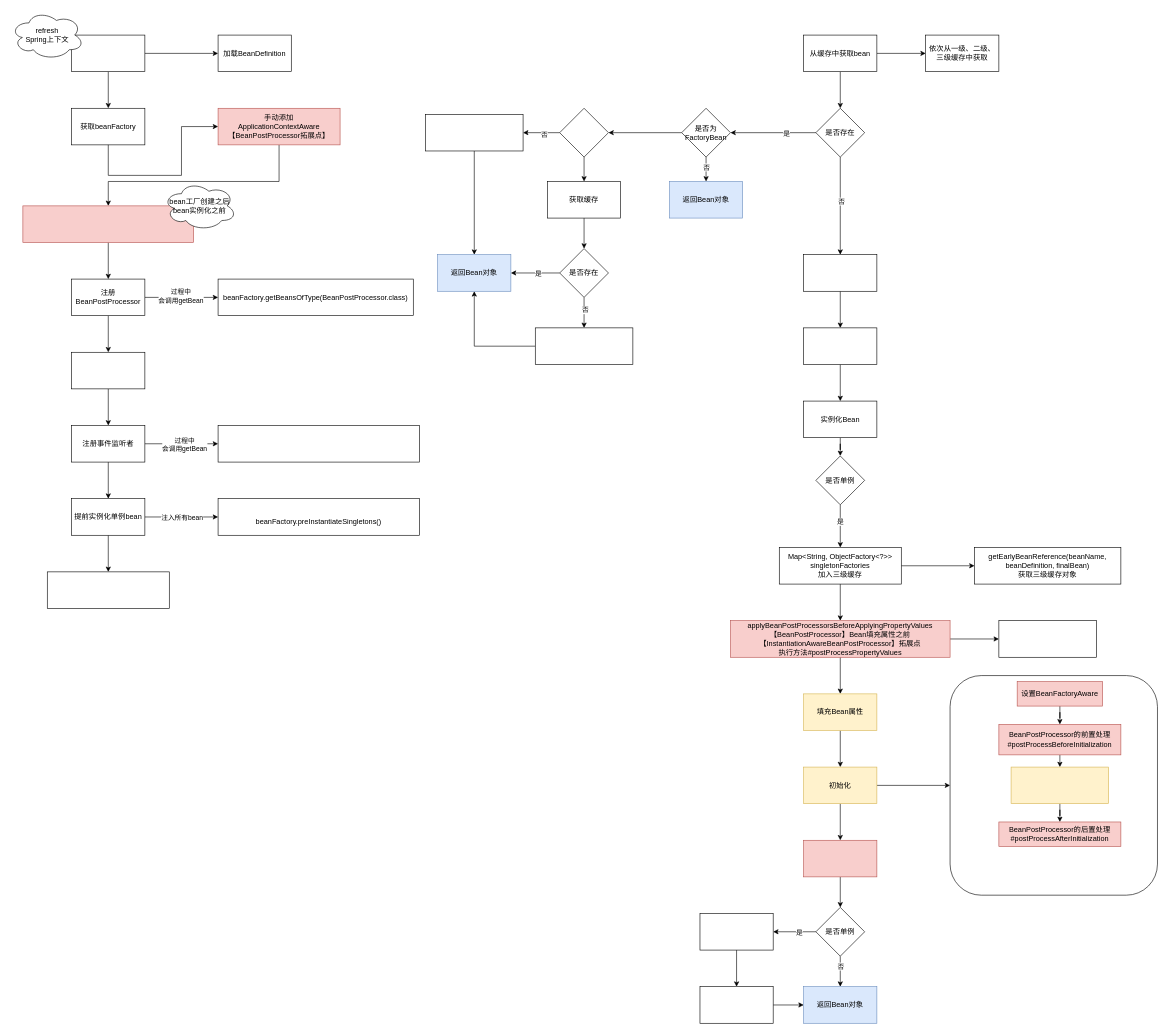
Image size: 1168x1034. Some labels were removed from this diagram. The shapes that lost their labels are listed below. From the top down, each one's box as (x1, y1, x2, y2) in pixels, then its label:
(71, 34, 145, 72): 创建BeanFactory
(425, 114, 523, 151): factoryBean.getObject() 使用自定义方法新建
(559, 108, 608, 157): 是否为 单例
(22, 205, 194, 242): 【 BeanFactoryPostProcessor 】 拓展点 执行方法：# postProcessBeanFactory
(803, 254, 877, 291): 基于beanName 获取Bean定义
(535, 327, 633, 364): 1. factoryBean.getObject() 使用自定义方法新建 2.新增缓存
(803, 327, 877, 364): 创建Bean
(71, 352, 145, 389): 初始化事件发布者
(217, 425, 419, 462): getBeansOfType(ApplicationListener.class).values()
(47, 571, 169, 608): 发布容器刷新完成事件
(998, 620, 1096, 657): 修改Bean定义 添加 propertyValueList属性
(1010, 766, 1109, 804): 初始化 @ PostConstruct init-method
(803, 840, 877, 877): 执行销毁方法 destroy-method
(699, 913, 773, 950): 获取单例 若只存在三级缓存 将三级缓存移动至二级缓存
(699, 986, 773, 1023): 重置缓存 清空二、三级缓存 放入一级缓存
